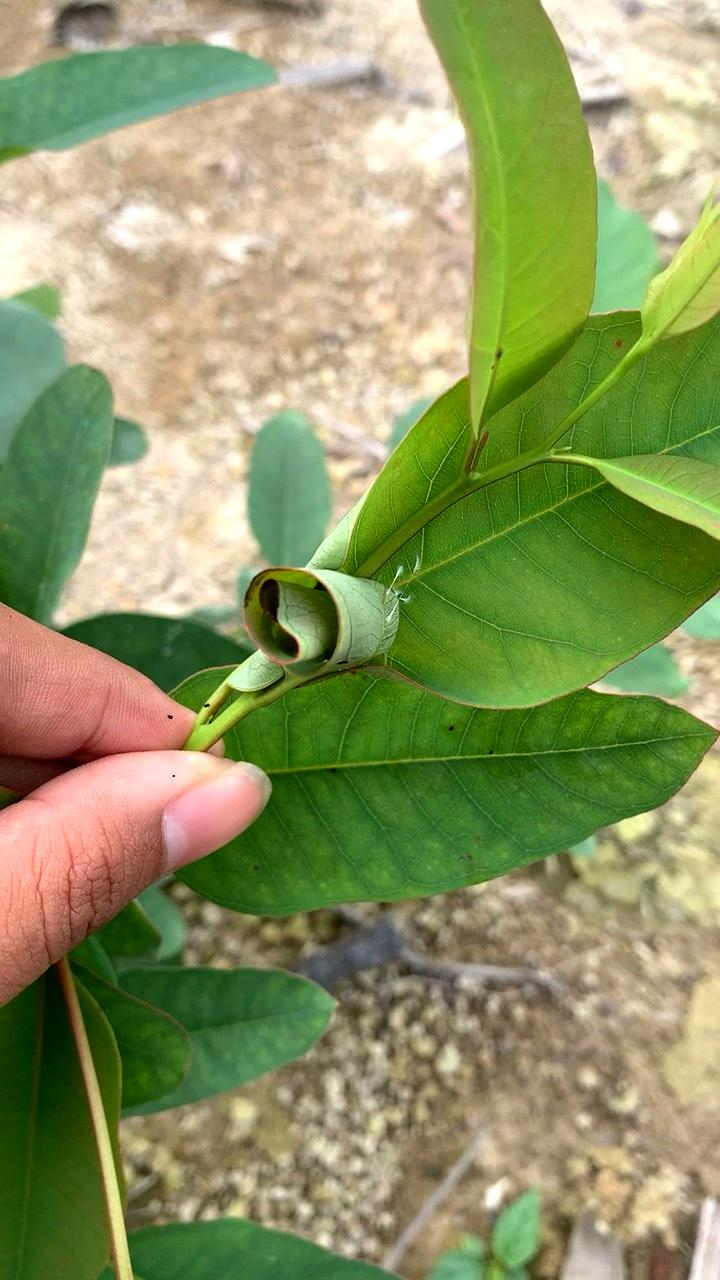Leaf Roller - Leaf: (213, 533, 441, 704)
